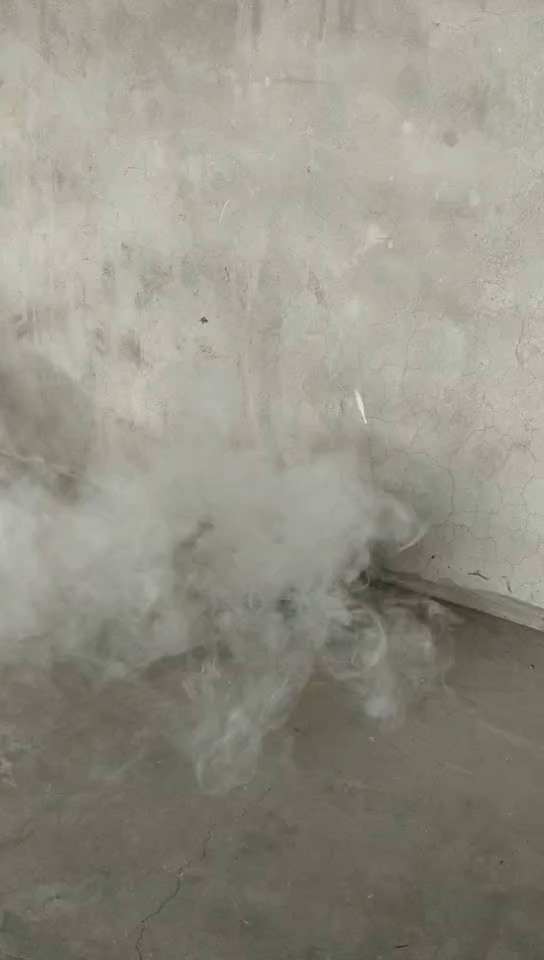smoke: (37, 427, 421, 756)
